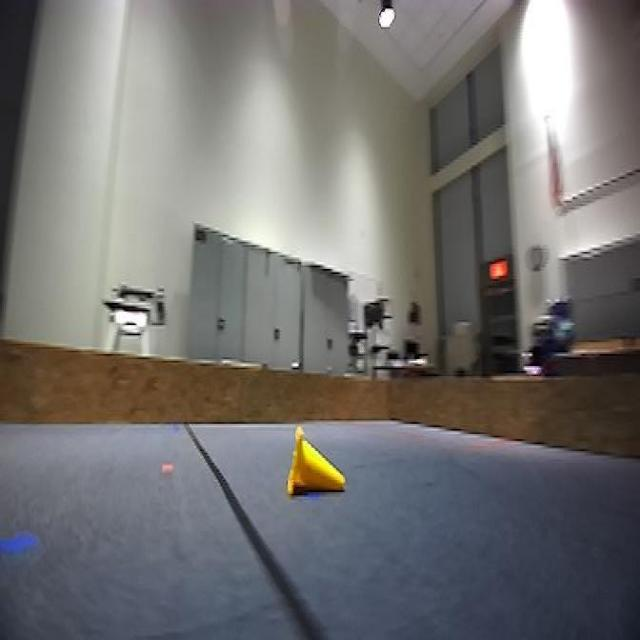frc_cone: (284, 417, 346, 500)
